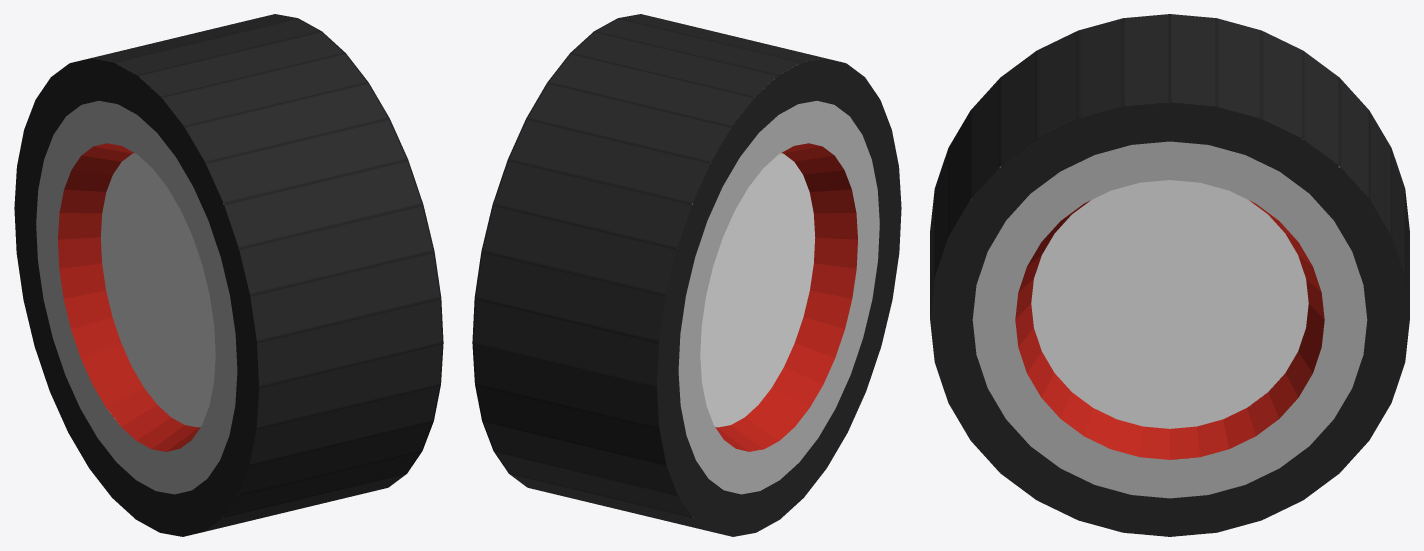
File: pneu.fbx
The picture shows the model from 3 angles, left to right: view 1: azimuth 30°, elevation 25°; view 2: azimuth 150°, elevation 25°; view 3: azimuth 270°, elevation 25°; orthographic projection. The views are drawn at different scales.
Visible parts, largest first — view 1: PneuP1; view 2: PneuP1; view 3: PneuP1.
Boxes of the visible parts, left/top/right/bottom form: PneuP1: left=14, top=14, right=443, bottom=536; PneuP1: left=472, top=14, right=901, bottom=536; PneuP1: left=930, top=14, right=1409, bottom=536.
Bounding box in the file's own units: 87.79 × 200 × 200.
1 material, 1 textured.
